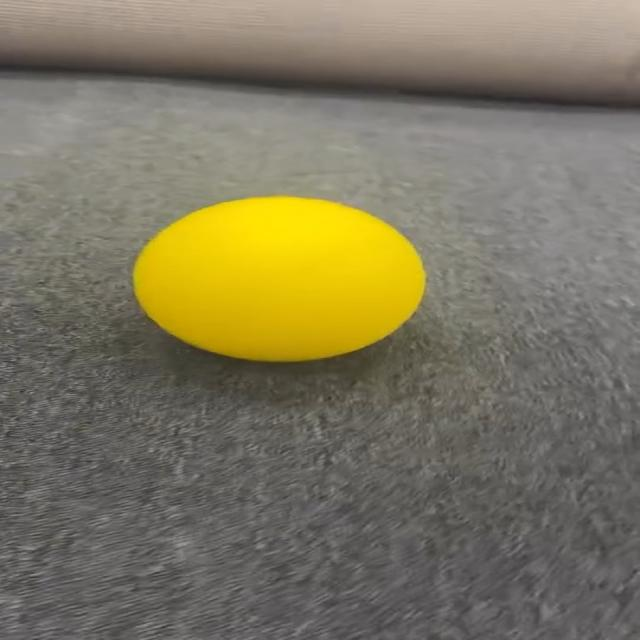Fuels: (130, 198, 418, 359)
